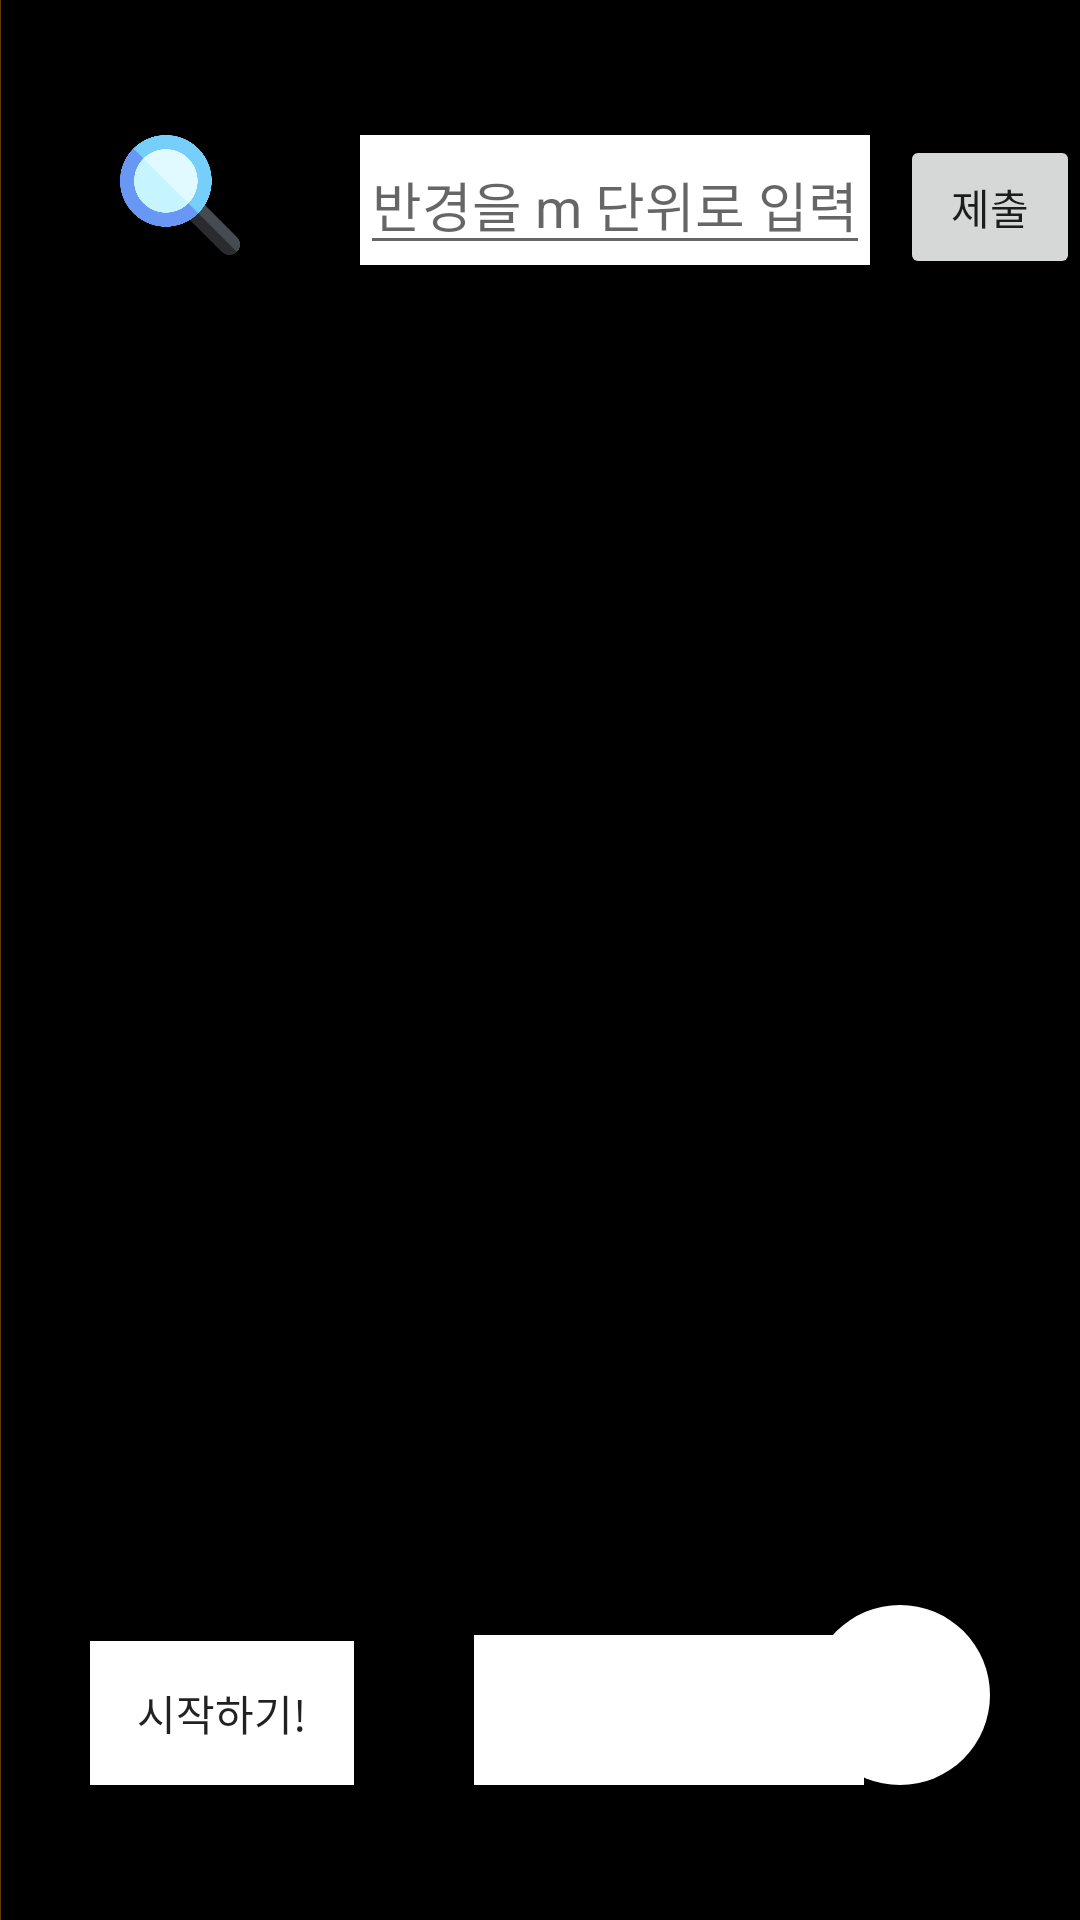

Point at icon controls on the screen. Image size 1080*1920, points as (x,y).
finder left: (180,195)
